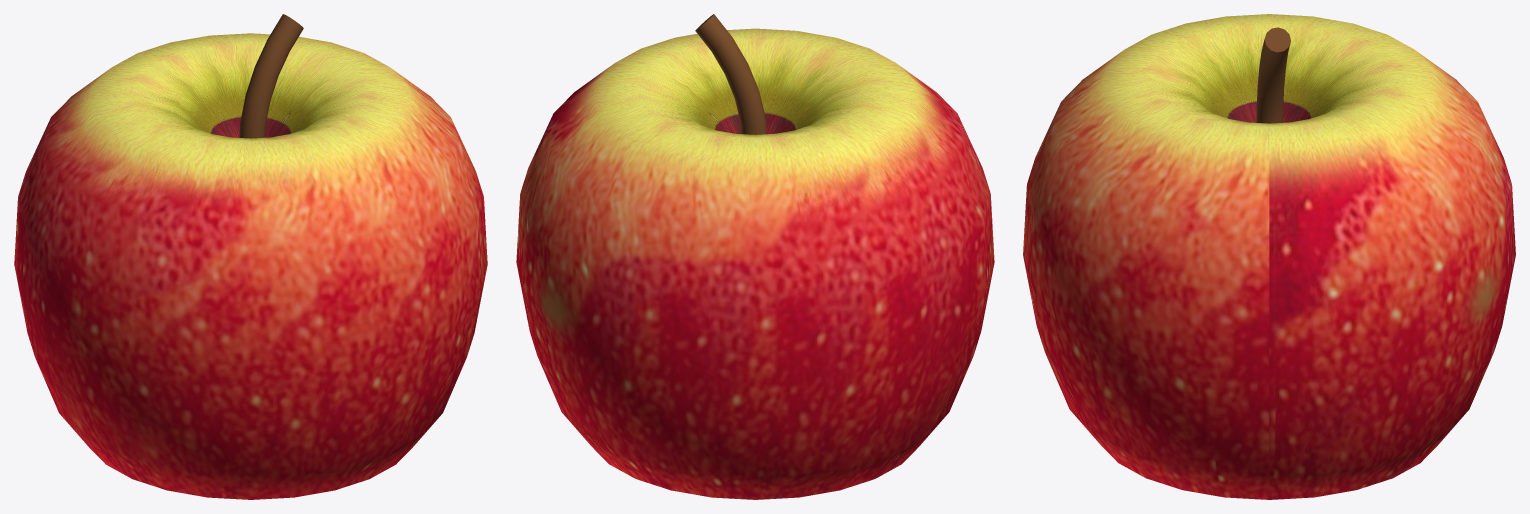
Rendered from apple.fbx.
The picture shows the model from 3 angles, left to right: view 1: azimuth 30°, elevation 25°; view 2: azimuth 150°, elevation 25°; view 3: azimuth 270°, elevation 25°; orthographic projection. The views are drawn at different scales.
Parts seen in each view (by area): view 1: apple; view 2: apple; view 3: apple.
Part boxes in pixels (x1,y1,x2,y2): apple: (14,14,487,499); apple: (516,14,994,499); apple: (1023,14,1515,499).
Bounding box in the file's own units: 9.12 × 8.69 × 9.12.
1 material, 1 textured.
